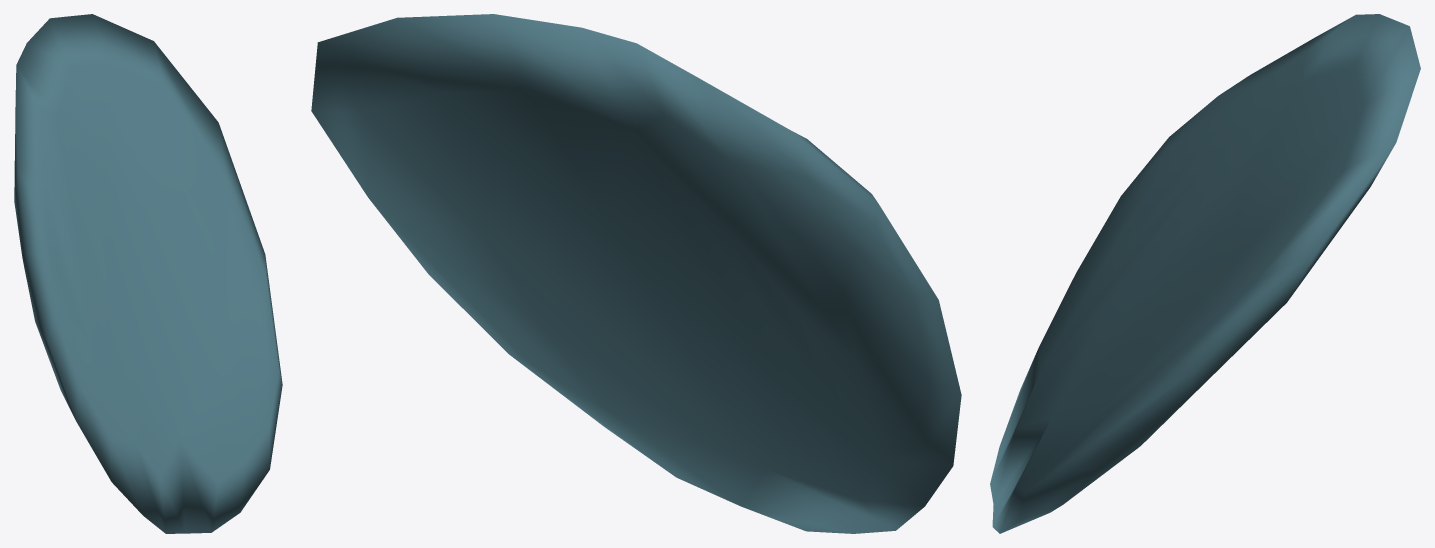
File: Extensor_digitorum-middle_phalanx-5th_finger.l_Generated_Mesh_F.glb
The picture shows the model from 3 angles, left to right: view 1: azimuth 30°, elevation 25°; view 2: azimuth 150°, elevation 25°; view 3: azimuth 270°, elevation 25°; orthographic projection. The views are drawn at different scales.
Visible parts, largest first — view 1: Extensor_digitorum-middle_phalanx-5th_finger.l_Generated_Mes; view 2: Extensor_digitorum-middle_phalanx-5th_finger.l_Generated_Mes; view 3: Extensor_digitorum-middle_phalanx-5th_finger.l_Generated_Mes.
Boxes of the visible parts, x1,y1,x2,y2 form: Extensor_digitorum-middle_phalanx-5th_finger.l_Generated_Mes: (14, 14, 282, 533); Extensor_digitorum-middle_phalanx-5th_finger.l_Generated_Mes: (311, 14, 961, 533); Extensor_digitorum-middle_phalanx-5th_finger.l_Generated_Mes: (990, 14, 1420, 533).
Size of the model in its own units: 0.0036 by 0.00539 by 0.00419.
